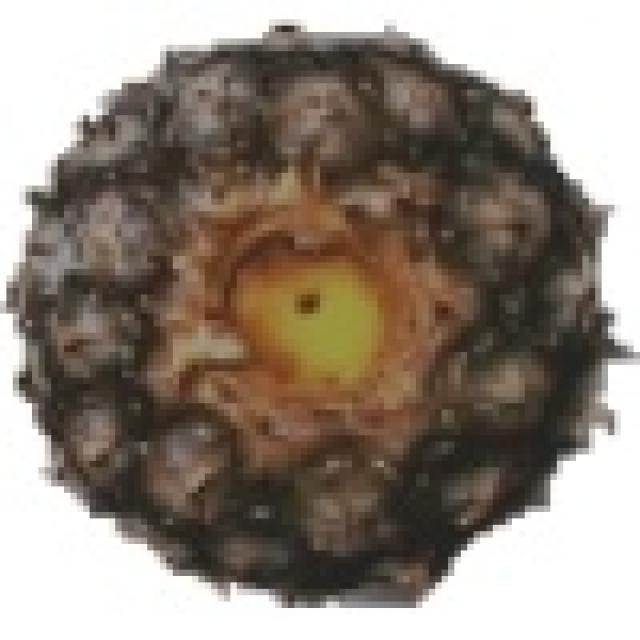pineapple: (6, 19, 595, 589)
